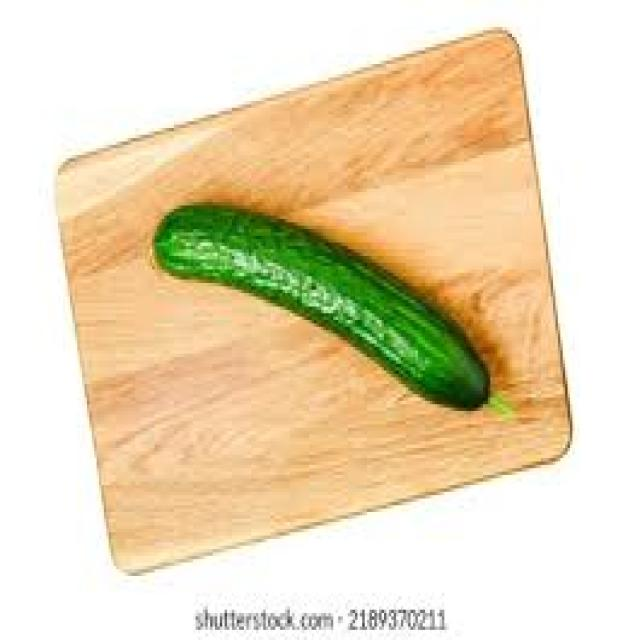cucumber: (150, 199, 504, 414)
